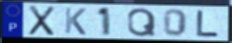0: (162, 8, 189, 39)
1: (96, 7, 112, 37)
K: (64, 7, 88, 36)
L: (196, 9, 221, 37)
Q: (126, 7, 158, 38)
X: (27, 4, 57, 37)
